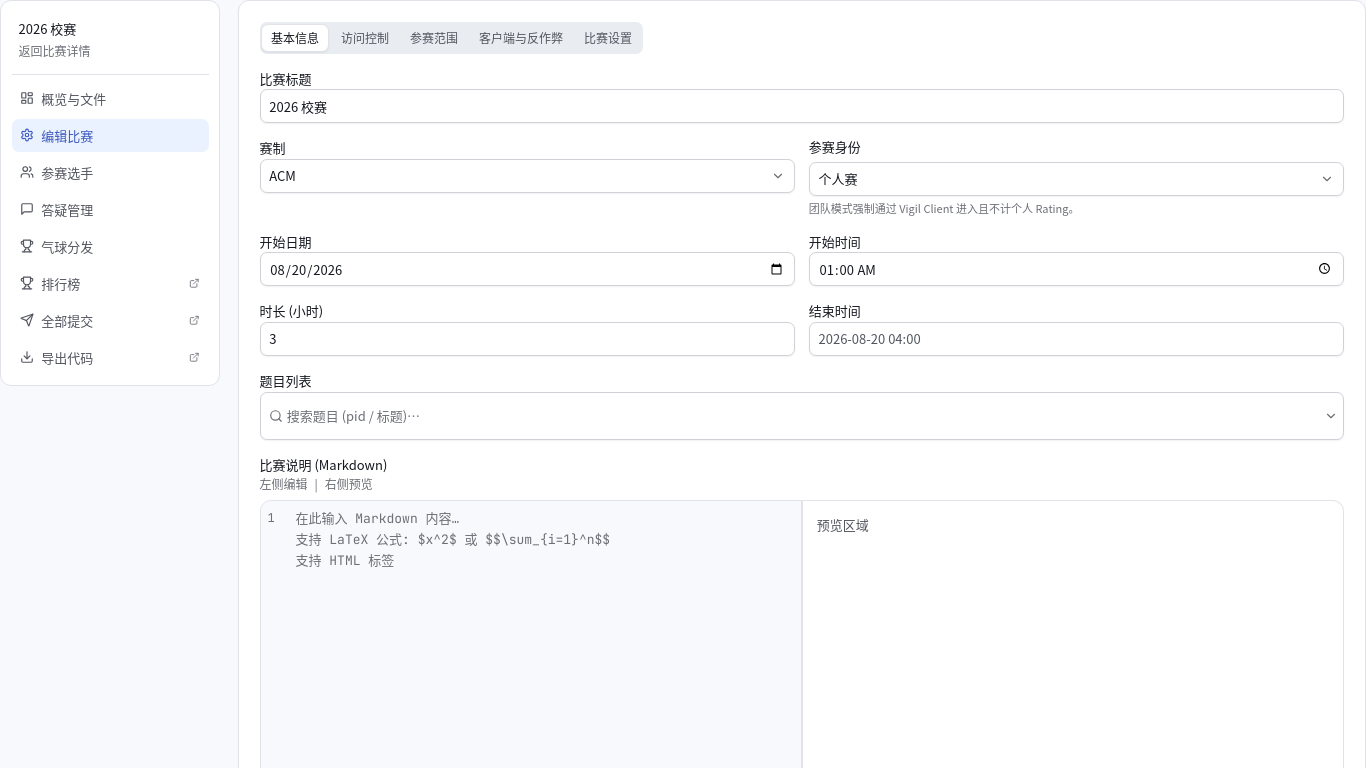
Scenario: contest exam seat entry › loads contest maintainers into the searchable user picker
Click the button "访问控制" at (365, 38), box 332,24 -> 398,52
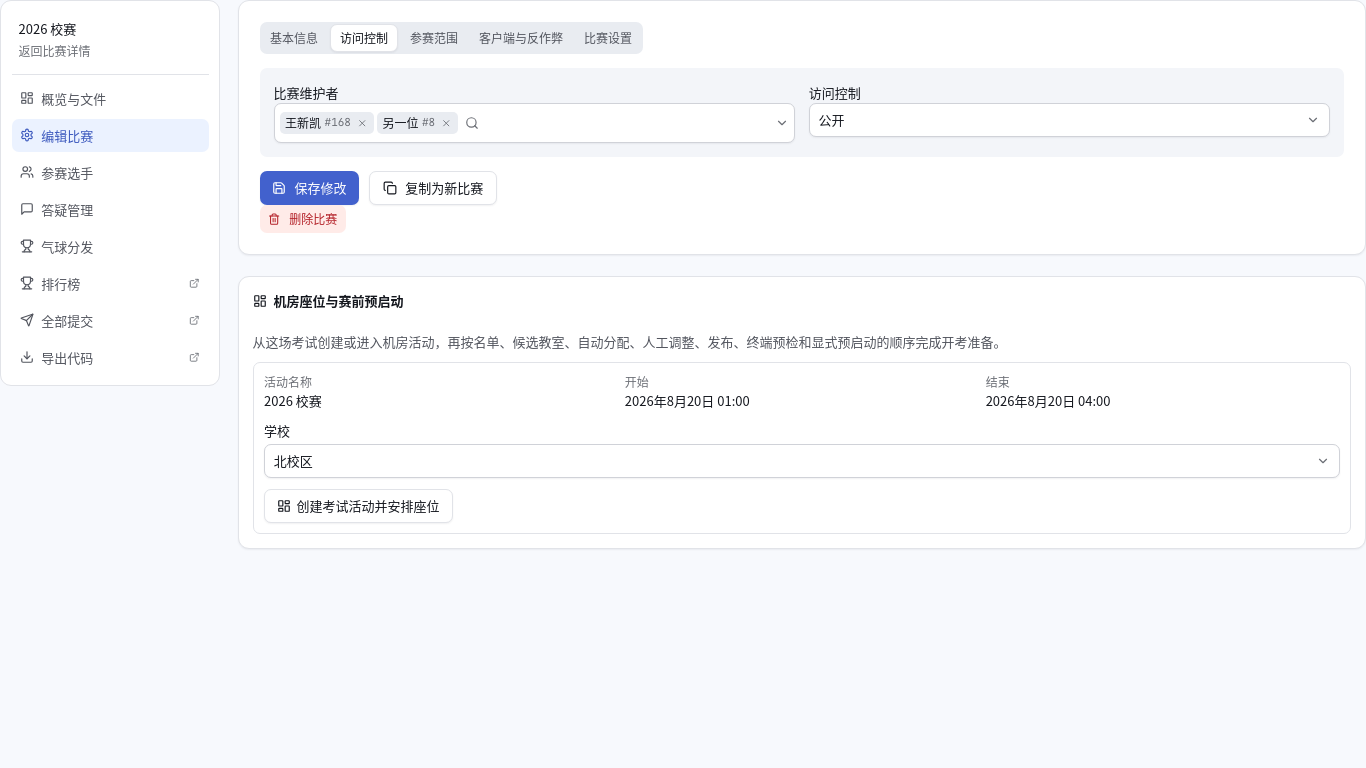
Result: the text "王新凯" is shown at 285,114 -> 321,132
Result: the text "另一位" is shown at 382,114 -> 418,132
Result: the text "#168" is shown at 324,116 -> 351,131
